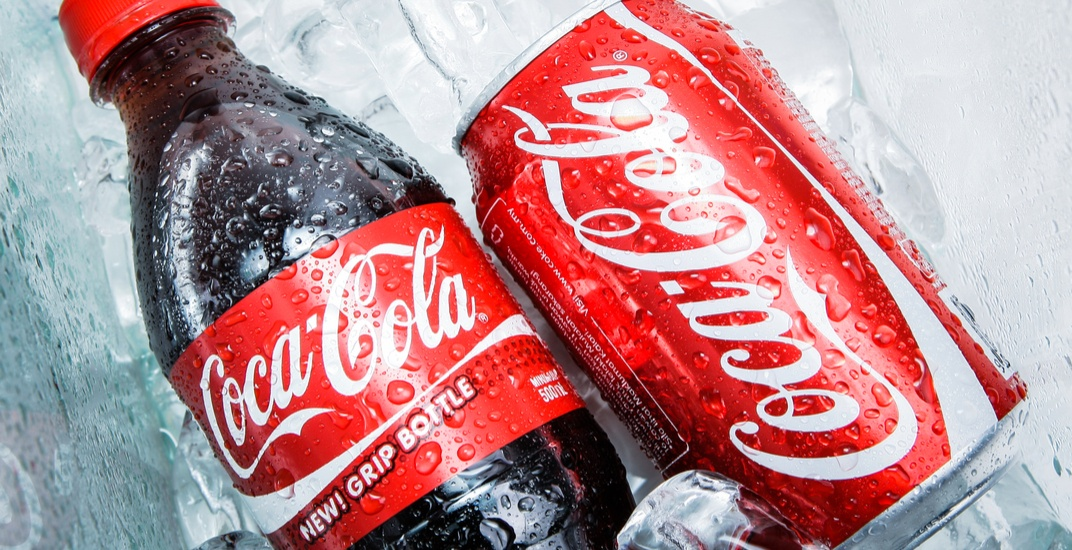coke: (460, 5, 1034, 543), (64, 11, 632, 542)
